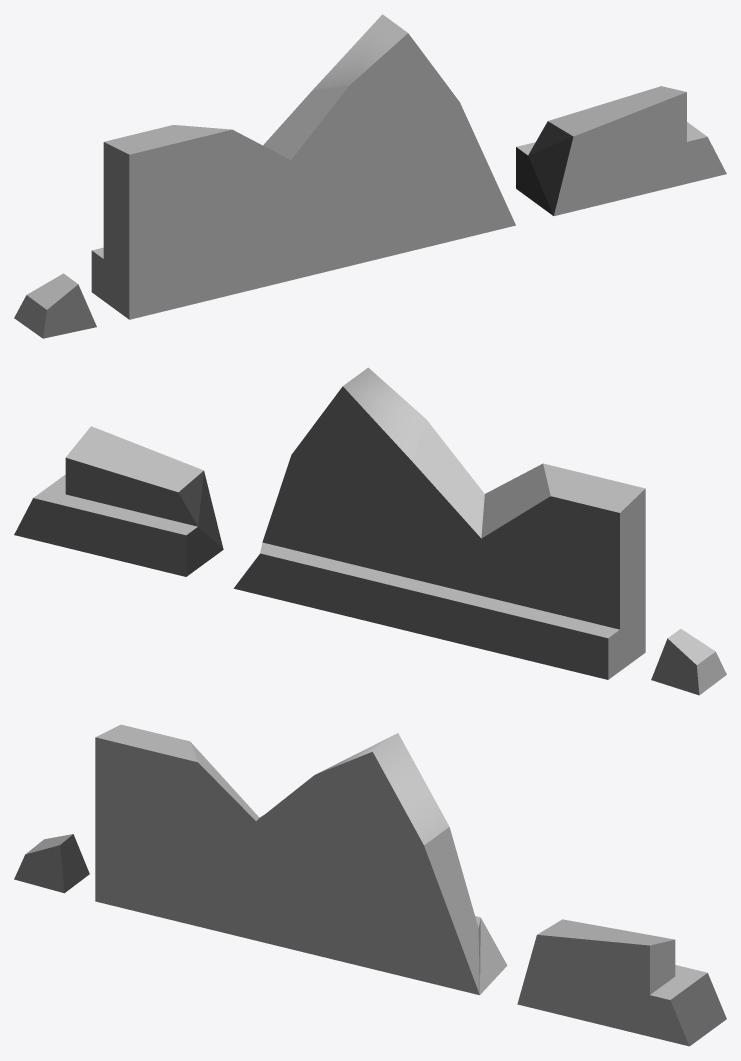
The model's file is wall_damaged_09.fbx.
The picture shows the model from 3 angles, top to bottom: view 1: azimuth 30°, elevation 25°; view 2: azimuth 150°, elevation 25°; view 3: azimuth 330°, elevation 25°; orthographic projection.
Parts seen in each view (by area): view 1: wall_damaged_09; view 2: wall_damaged_09; view 3: wall_damaged_09.
Part boxes in pixels (bbox=[...]): wall_damaged_09: bbox=[14, 14, 726, 338]; wall_damaged_09: bbox=[14, 367, 726, 695]; wall_damaged_09: bbox=[14, 724, 726, 1046].
Bounding box in the file's own units: 252 × 77.17 × 24.04.
